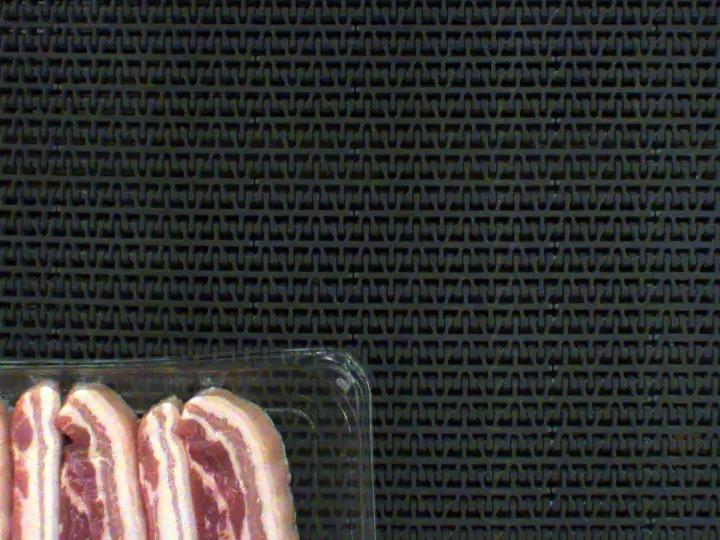packaging-error: (0, 325, 285, 423)
